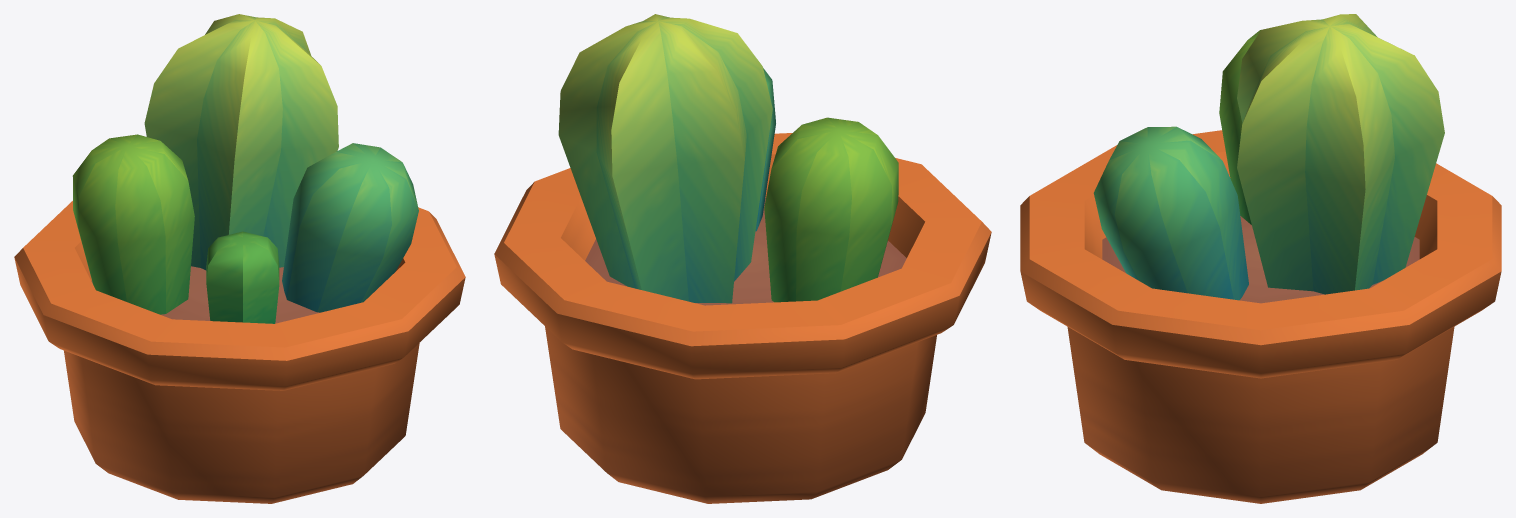
The model's file is furniture-cactus-medium-b.gltf.
The picture shows the model from 3 angles, left to right: view 1: azimuth 30°, elevation 25°; view 2: azimuth 150°, elevation 25°; view 3: azimuth 270°, elevation 25°; orthographic projection. The views are drawn at different scales.
Parts seen in each view (by area): view 1: cactus_medium_B; view 2: cactus_medium_B; view 3: cactus_medium_B.
Boxes of the visible parts, left/top/right/bottom form: cactus_medium_B: left=14, top=14, right=465, bottom=503; cactus_medium_B: left=494, top=14, right=991, bottom=503; cactus_medium_B: left=1020, top=14, right=1501, bottom=503.
Bounding box in the file's own units: 0.8799 × 0.8272 × 0.8368.
Materials: 1 (1 with a texture image).
